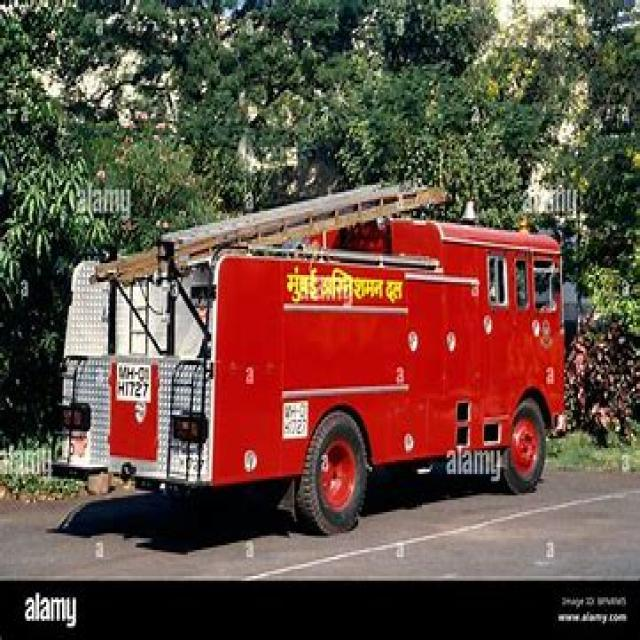Fire-engine: (50, 178, 568, 536)
